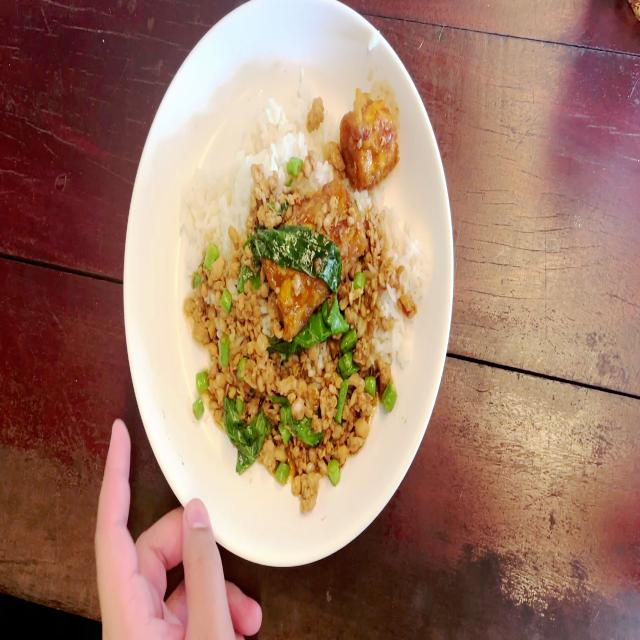fried_tofo: (272, 184, 363, 324), (347, 103, 393, 178)
minced_pork: (228, 341, 374, 508), (191, 242, 232, 428), (231, 216, 267, 343), (362, 210, 386, 360), (252, 163, 299, 226), (308, 102, 321, 128)
rice: (384, 212, 428, 370), (182, 150, 250, 241), (250, 96, 308, 162)
stir_fried_basil: (180, 85, 420, 518)
